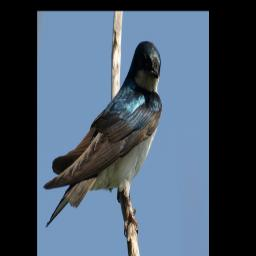Swallow: (42, 41, 162, 240)
